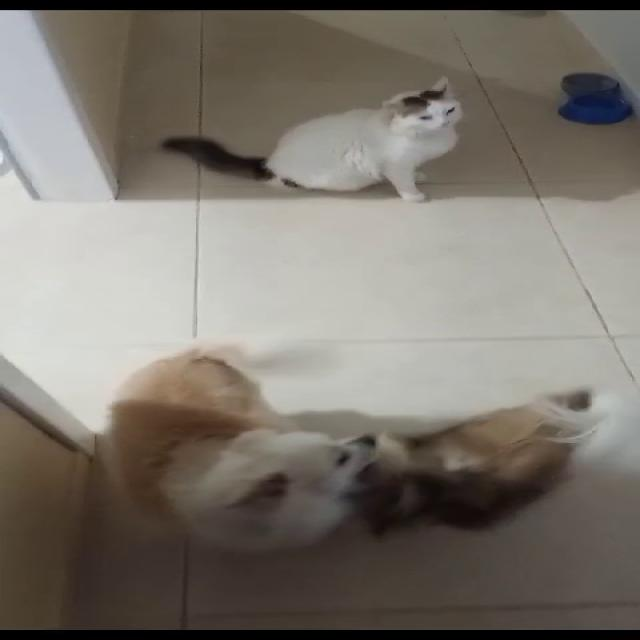Pedrita: (314, 362, 639, 520)
Simba: (177, 47, 557, 236)
Theo: (52, 303, 410, 551)
